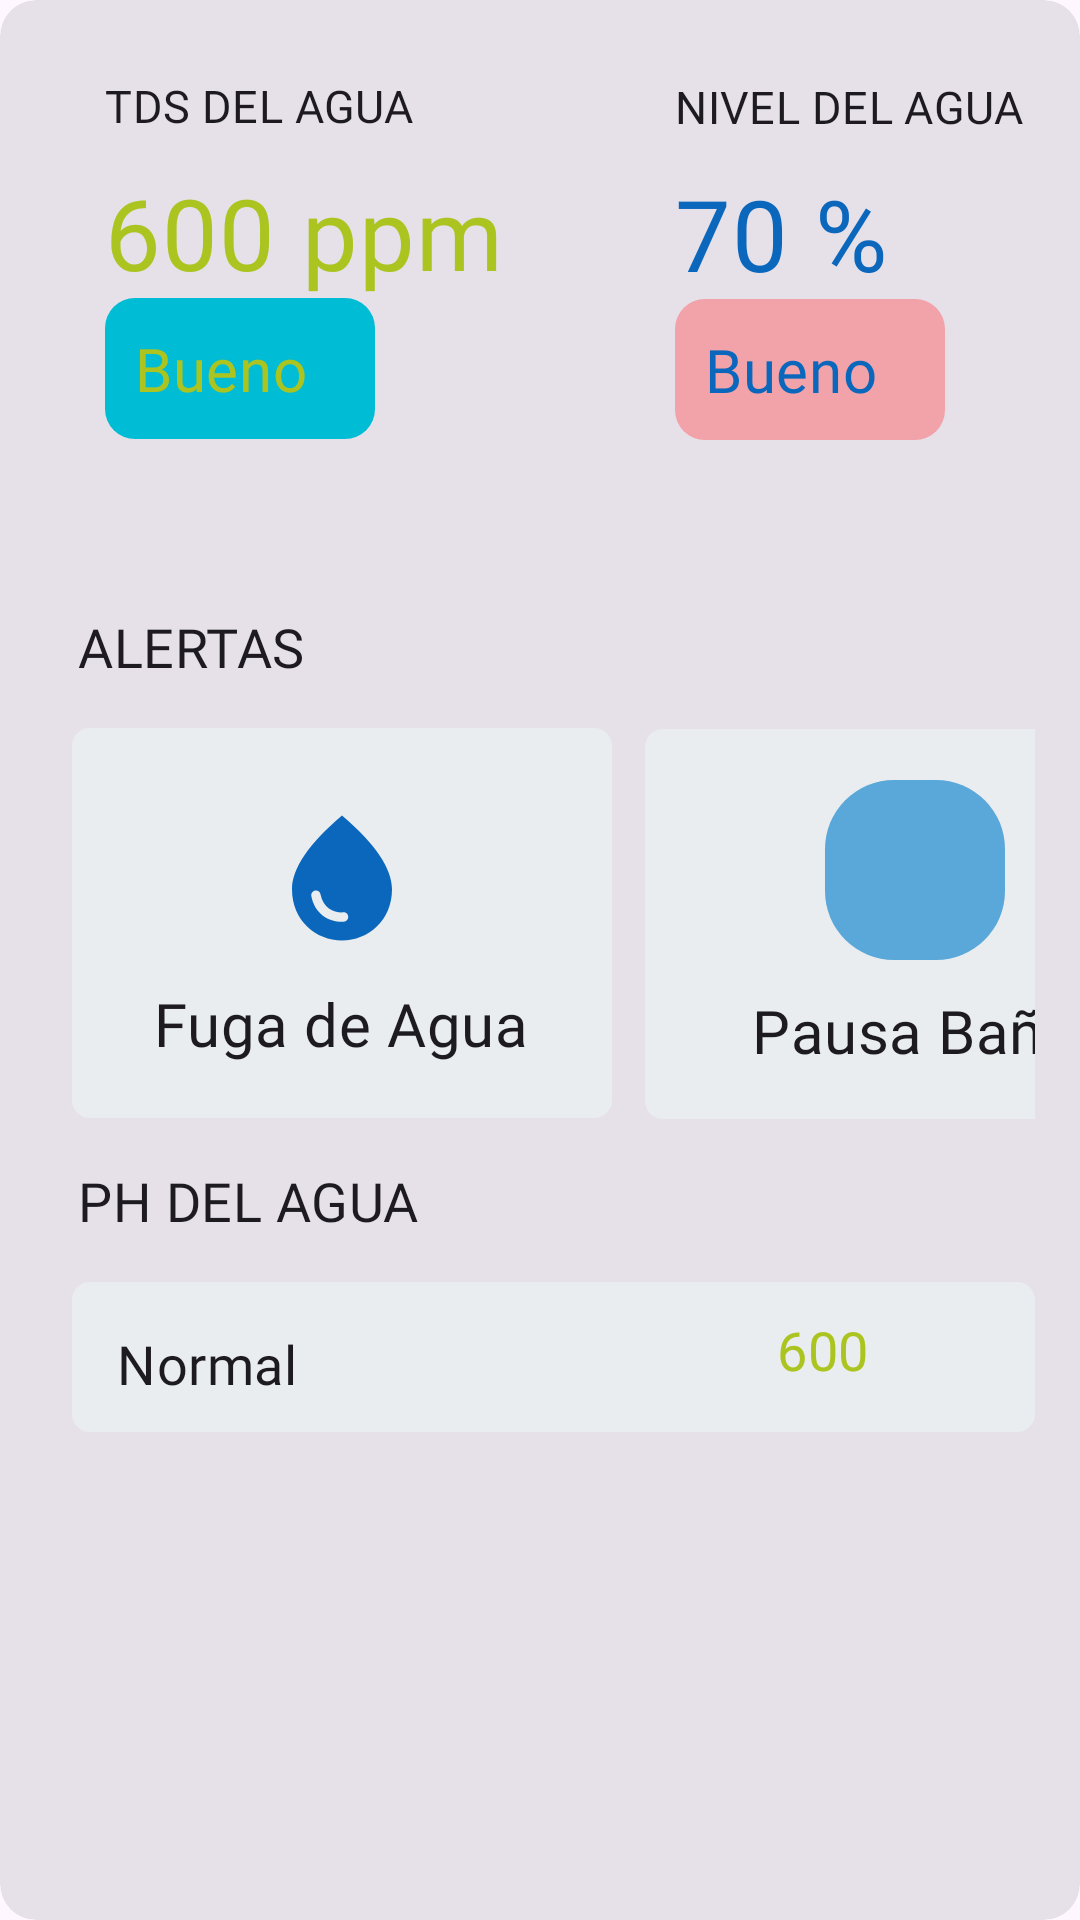

Icons on this 1080*1920 Android screen, each with its box as [left=x1, top=y1, right=x2, bottom=y2]:
drop: [left=292, top=815, right=392, bottom=941]
